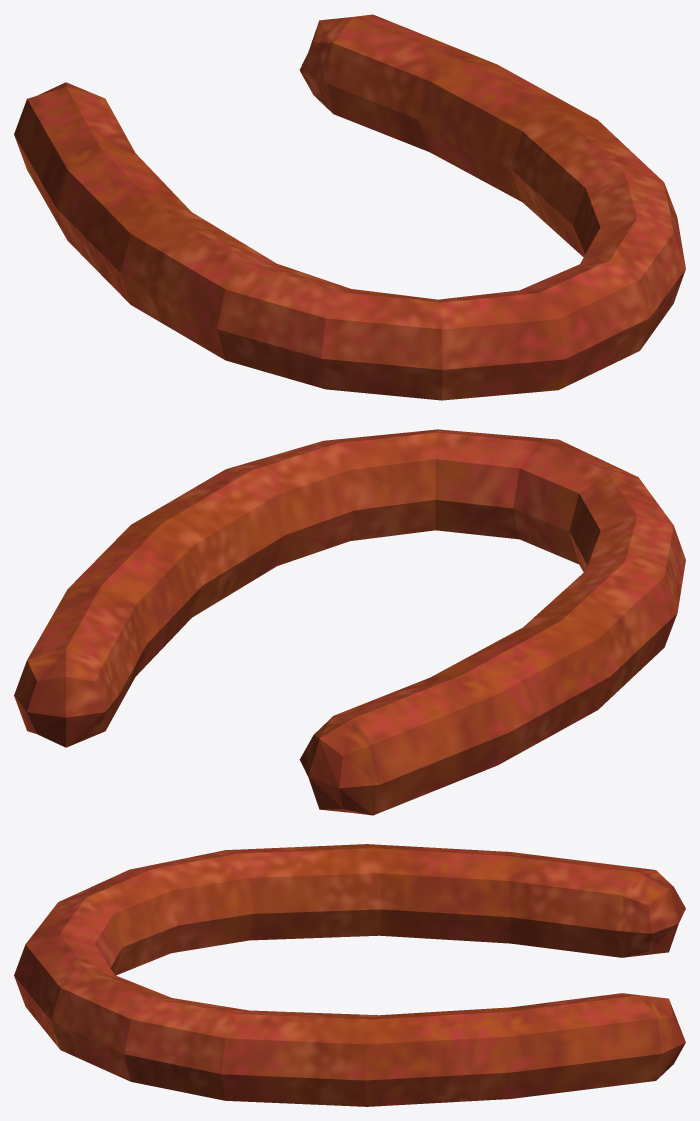
The picture shows the model from 3 angles, top to bottom: view 1: azimuth 30°, elevation 25°; view 2: azimuth 150°, elevation 25°; view 3: azimuth 270°, elevation 25°; orthographic projection. The views are drawn at different scales.
Parts seen in each view (by area): view 1: Node; view 2: Node; view 3: Node.
Boxes of the visible parts, x1,y1,x2,y2 form: Node: (14, 14, 685, 400); Node: (14, 429, 685, 815); Node: (14, 844, 685, 1106).
Bounding box in the file's own units: 5.41 × 1 × 7.31.
1 material, 1 textured.
